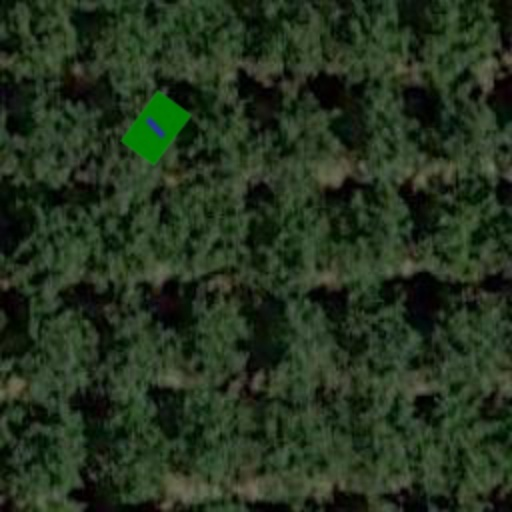rectangle: (110, 82, 202, 174)
